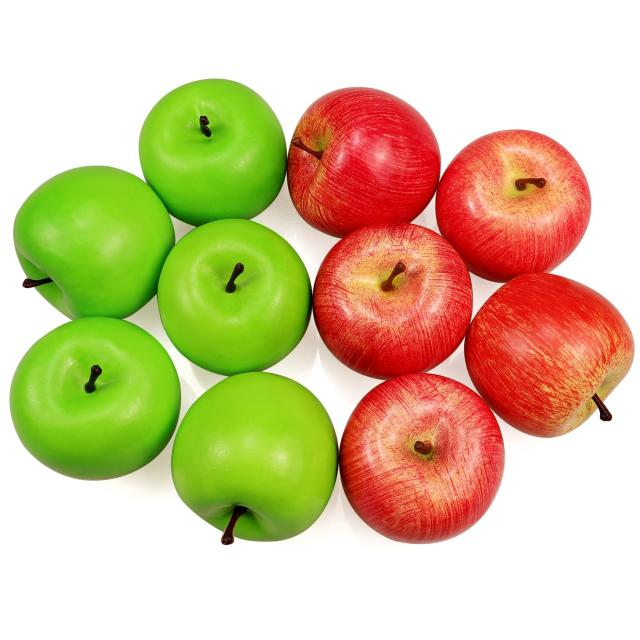Green Apple: (171, 371, 338, 546), (8, 317, 181, 480), (13, 164, 177, 318), (156, 218, 311, 372), (139, 79, 286, 222)
Red Apple: (338, 372, 507, 544), (465, 271, 637, 438), (312, 223, 476, 378), (284, 86, 445, 236), (436, 129, 593, 281)
